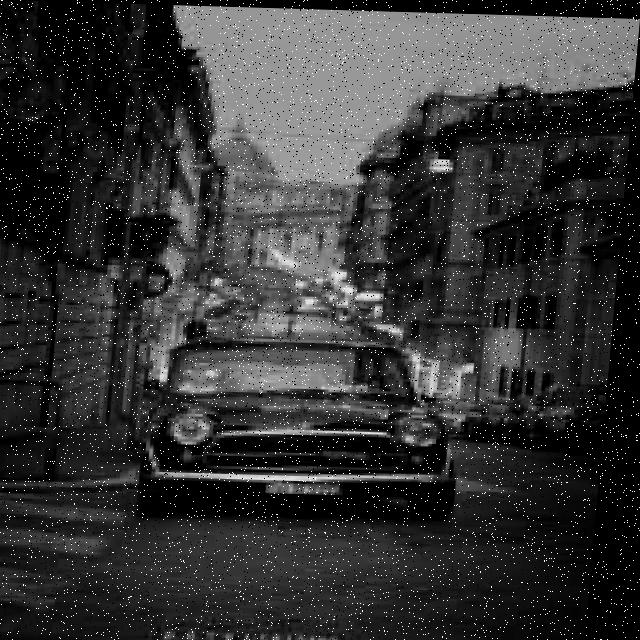car: (107, 316, 495, 519)
